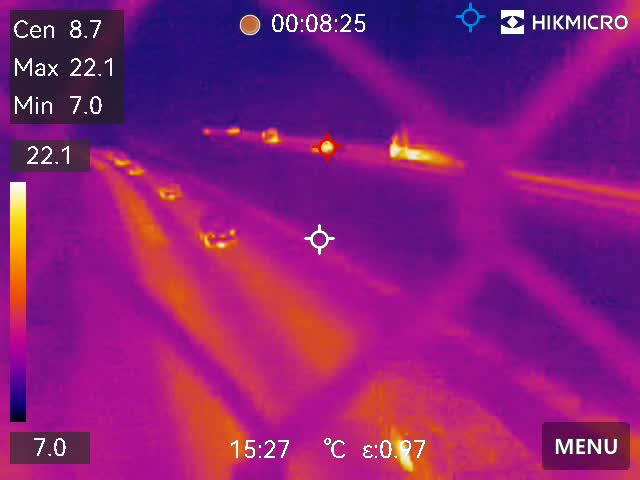heavyTruck: (390, 121, 471, 161)
vehicle: (193, 208, 247, 250), (162, 184, 187, 203), (260, 124, 279, 147), (125, 158, 146, 178)
